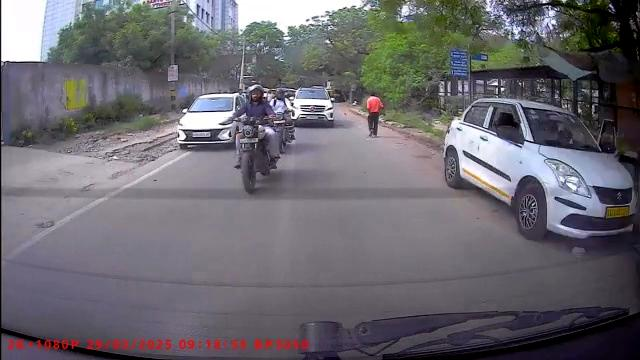motorcycle_with_helmet: (230, 81, 280, 196), (274, 88, 294, 147)
